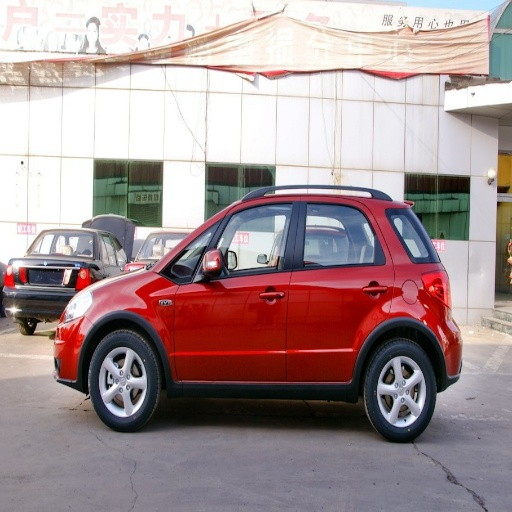back_left_door: (287, 196, 393, 381)
front_left_door: (175, 198, 301, 379)
